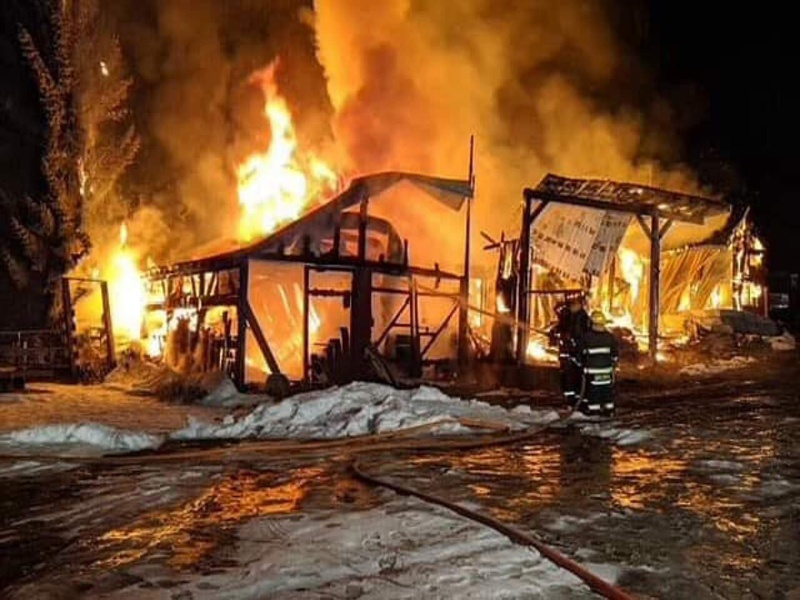fire: (219, 86, 339, 240), (97, 212, 169, 369), (607, 231, 650, 341), (509, 323, 561, 372), (672, 278, 737, 316)
